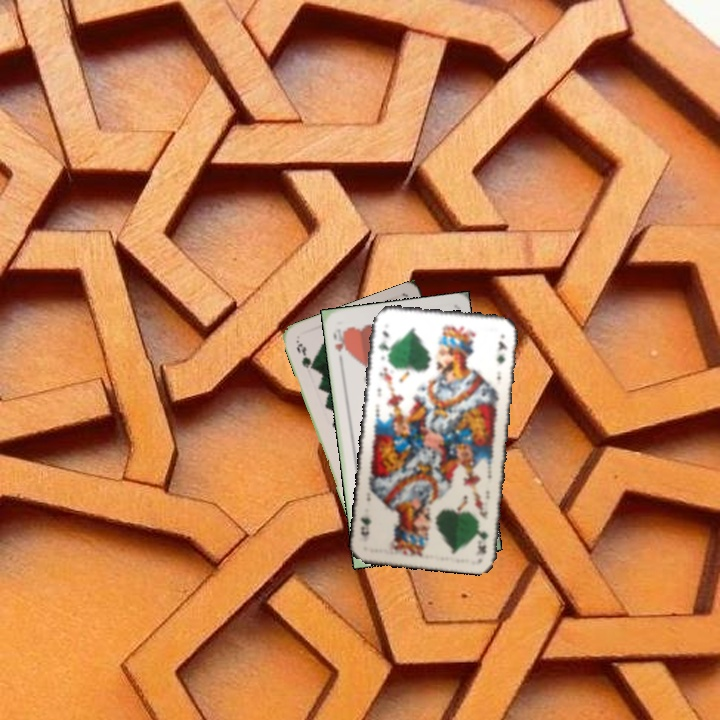G9: (292, 337, 316, 373)
GK: (473, 526, 490, 558), (374, 326, 391, 353)
HO: (329, 325, 349, 354)
